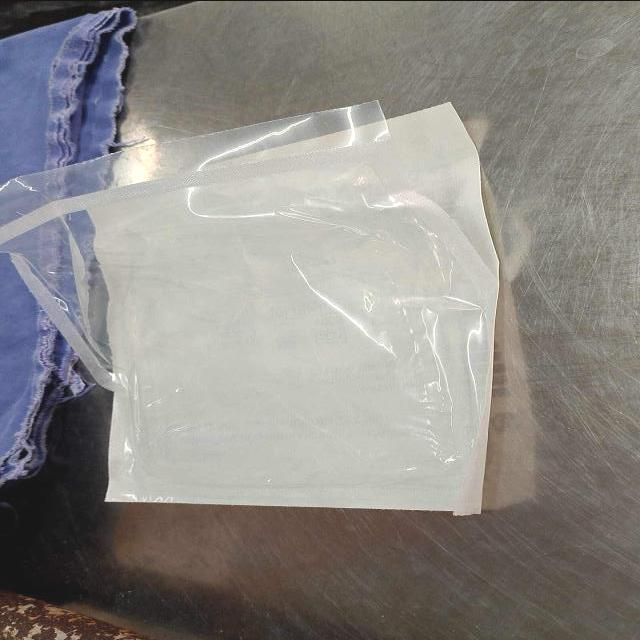General: (1, 97, 501, 518)
Sharps: (287, 250, 400, 359)
